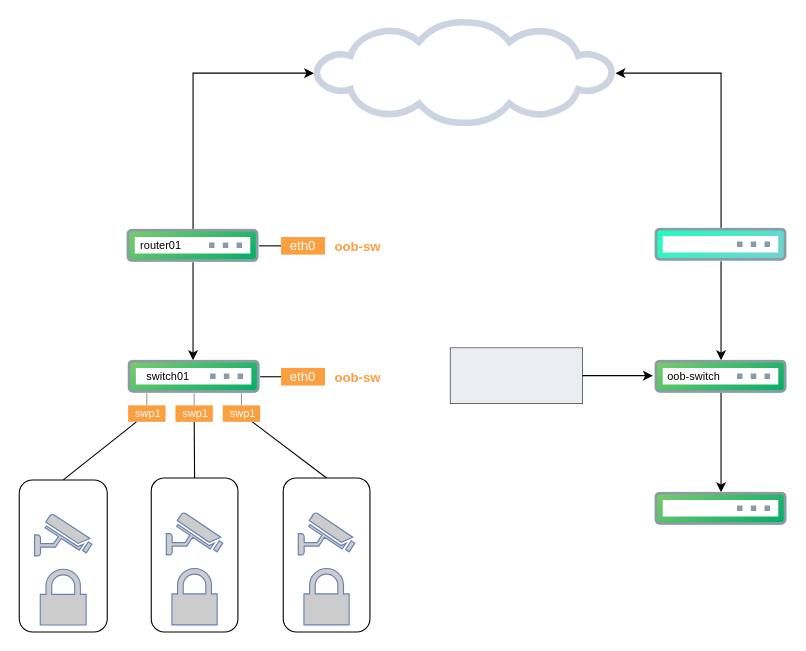
Some shapes in this 806 by 651 pixel diagram are drawn without their labels. The centre of each missing label's shape, as x and y in pixels:
eth0 on all devices: point (516, 375)
Internet: point (464, 73)
oob-server: point (720, 244)
snmp-server: point (720, 508)
